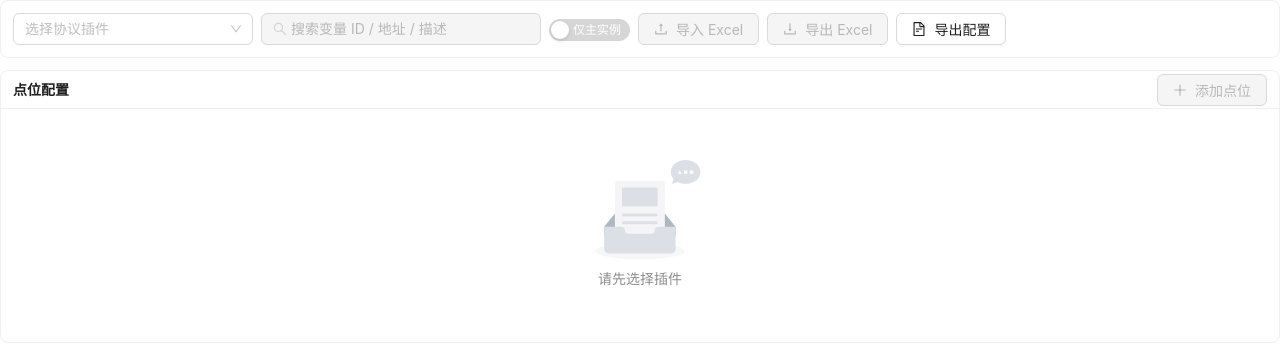
Test: Points 页面 › 选择插件后加载点位并渲染
Click the dropdown.
click(124, 29)  # box [25,14,223,44]
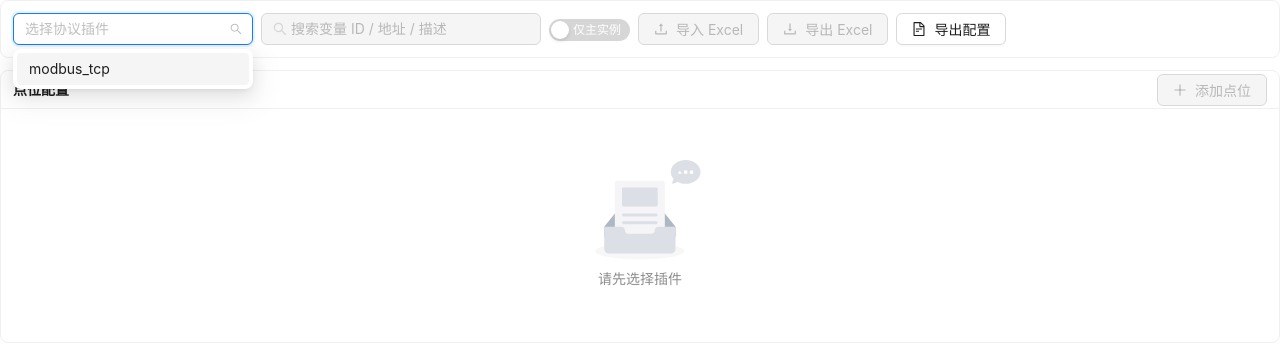
Click the text "modbus_tcp".
click(69, 68)  # box [29,60,110,77]
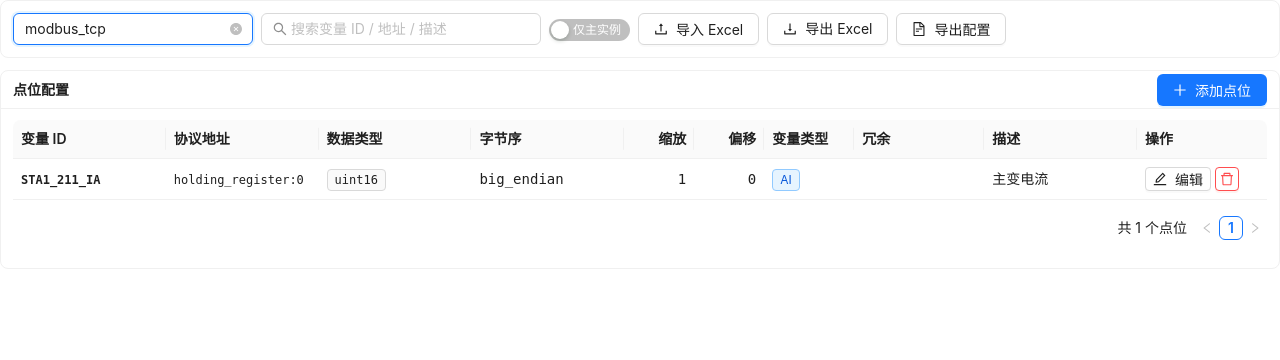
Check: the text "STA1_211_IA" is shown, box [21,173,100,187]
Check: the text "主变电流" is shown, box [984,159,1137,200]
